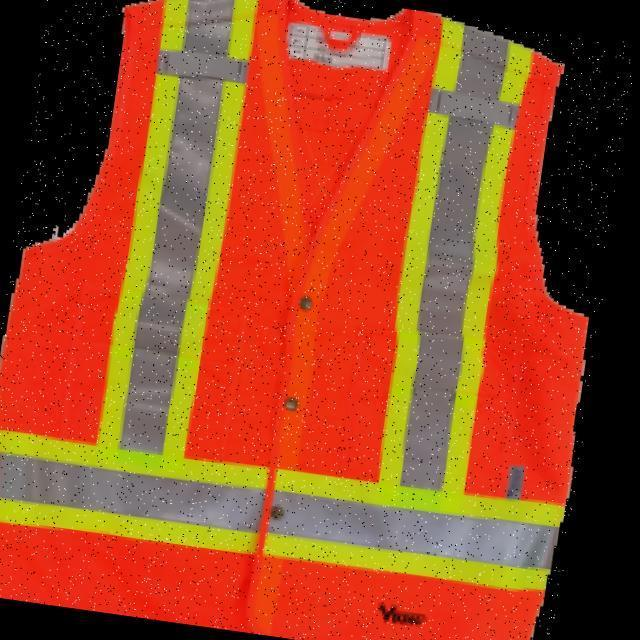vest: (0, 0, 638, 640)
